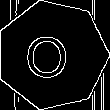O_N: (30, 30, 74, 80)
